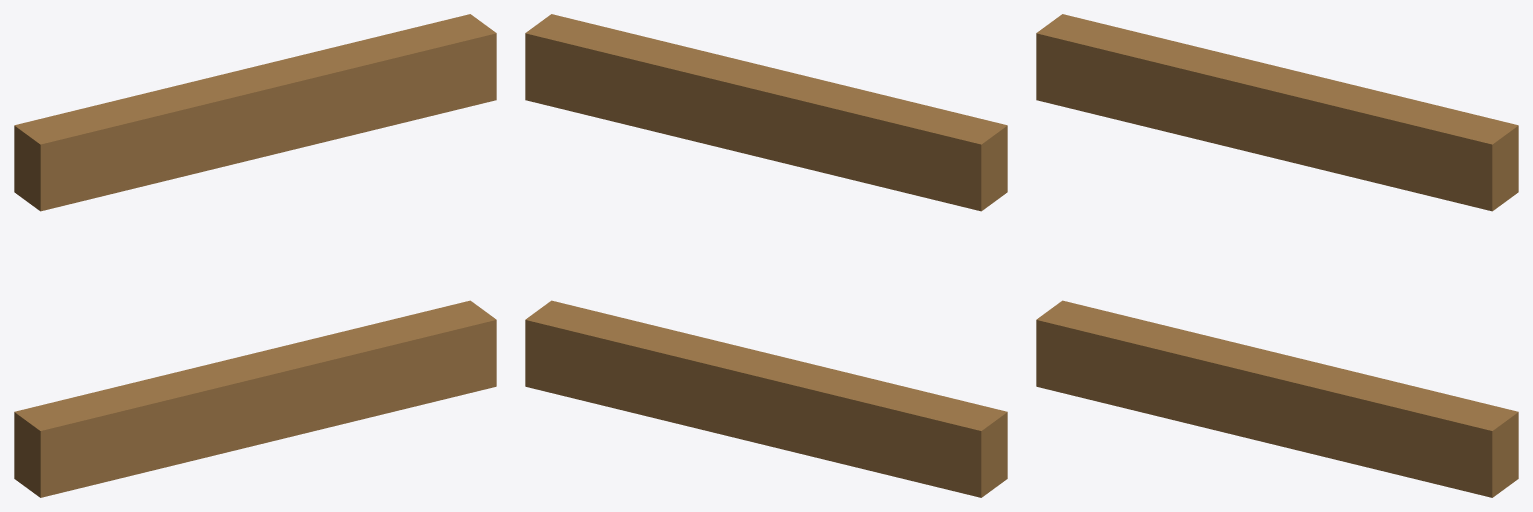
The model's file is fence_rail.obj.
The picture shows the model from 3 angles, left to right: view 1: azimuth 30°, elevation 25°; view 2: azimuth 150°, elevation 25°; view 3: azimuth 330°, elevation 25°; orthographic projection.
Visible parts, largest first — view 1: part_0, part_1; view 2: part_0, part_1; view 3: part_0, part_1.
Boxes of the visible parts, left/top/right/bottom form: part_0: left=14, top=300, right=496, bottom=497; part_1: left=14, top=14, right=496, bottom=211; part_0: left=525, top=300, right=1007, bottom=497; part_1: left=525, top=14, right=1007, bottom=211; part_0: left=1036, top=300, right=1518, bottom=497; part_1: left=1036, top=14, right=1518, bottom=211.
Size of the model in its own units: 0.5 by 0.37 by 0.05.
